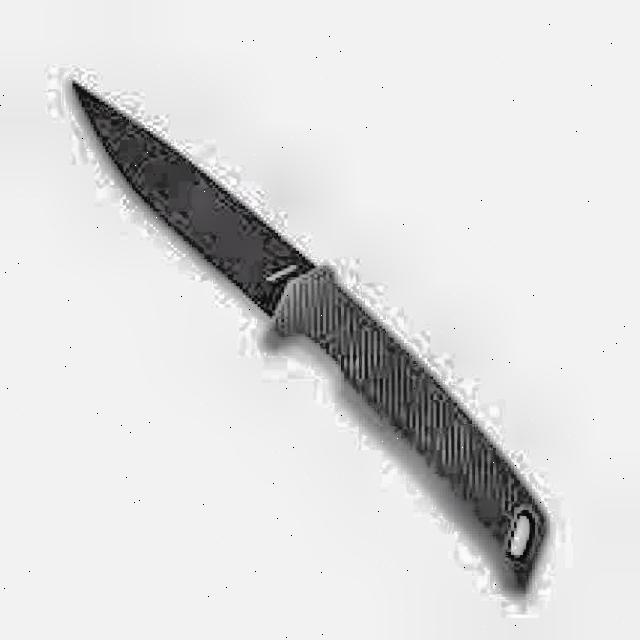knife: (67, 79, 557, 602)
